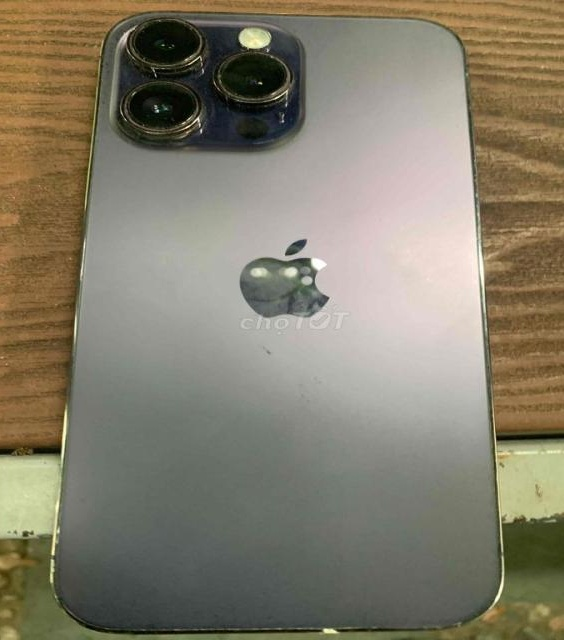scratch: (117, 74, 210, 153), (34, 487, 88, 615), (205, 46, 308, 108), (121, 12, 210, 78), (287, 620, 367, 636)
